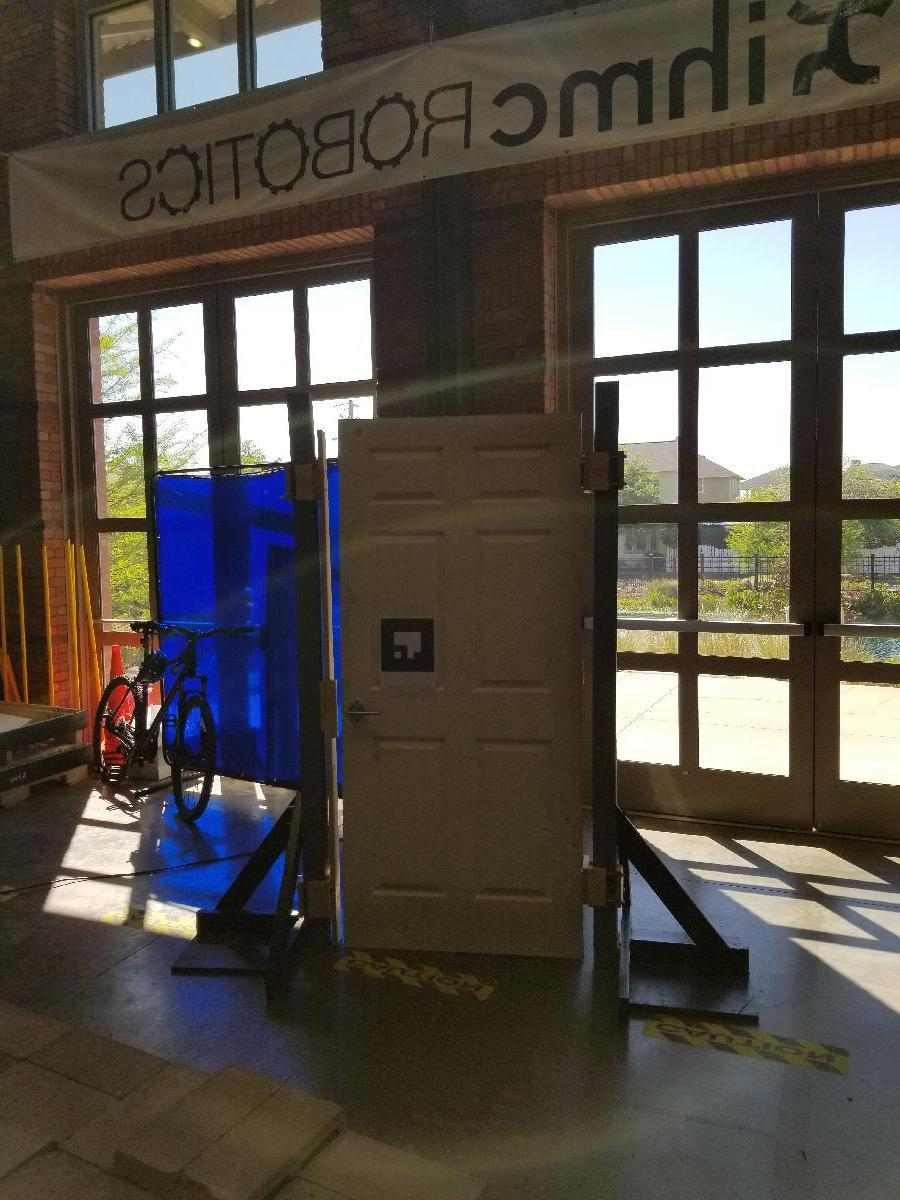door: (336, 410, 580, 956)
